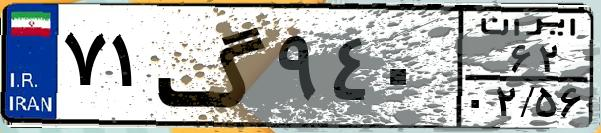0: (385, 28, 445, 110), (470, 70, 495, 125)
1: (110, 28, 156, 98)
2: (537, 27, 568, 80), (495, 70, 520, 125)
4: (330, 28, 385, 110)
5: (535, 70, 560, 125)
6: (560, 70, 590, 125), (508, 27, 537, 80)
7: (57, 26, 110, 100)
9: (270, 28, 330, 110)
گ: (156, 12, 270, 120)
